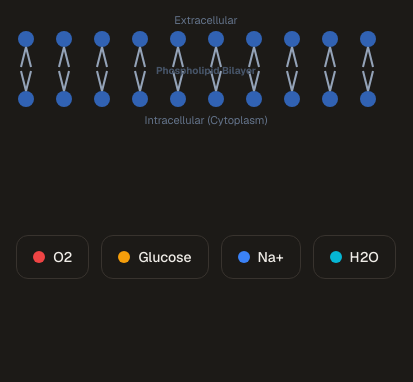
Test case: CellMembrane › shows correct result for water (osmosis)
Click the button "H2O": click(354, 257) [313,235,396,279]
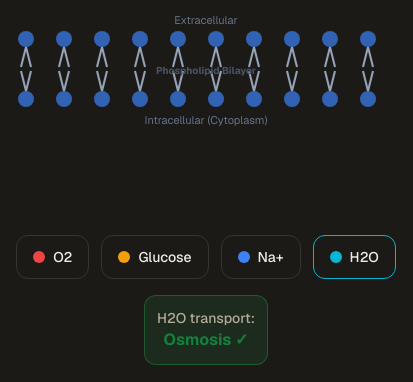
Expected: the text "Osmosis ✓" is shown, [157,328,255,352]
